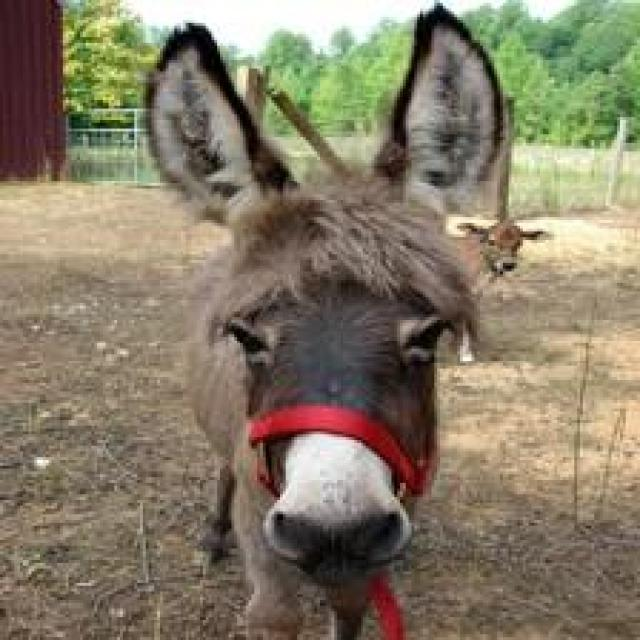Donkey: (140, 0, 529, 637)
